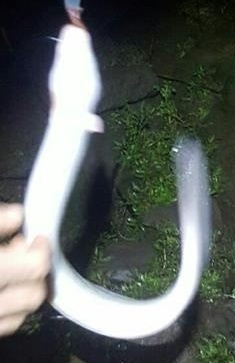Anguilla anguilla: (20, 20, 215, 343)
